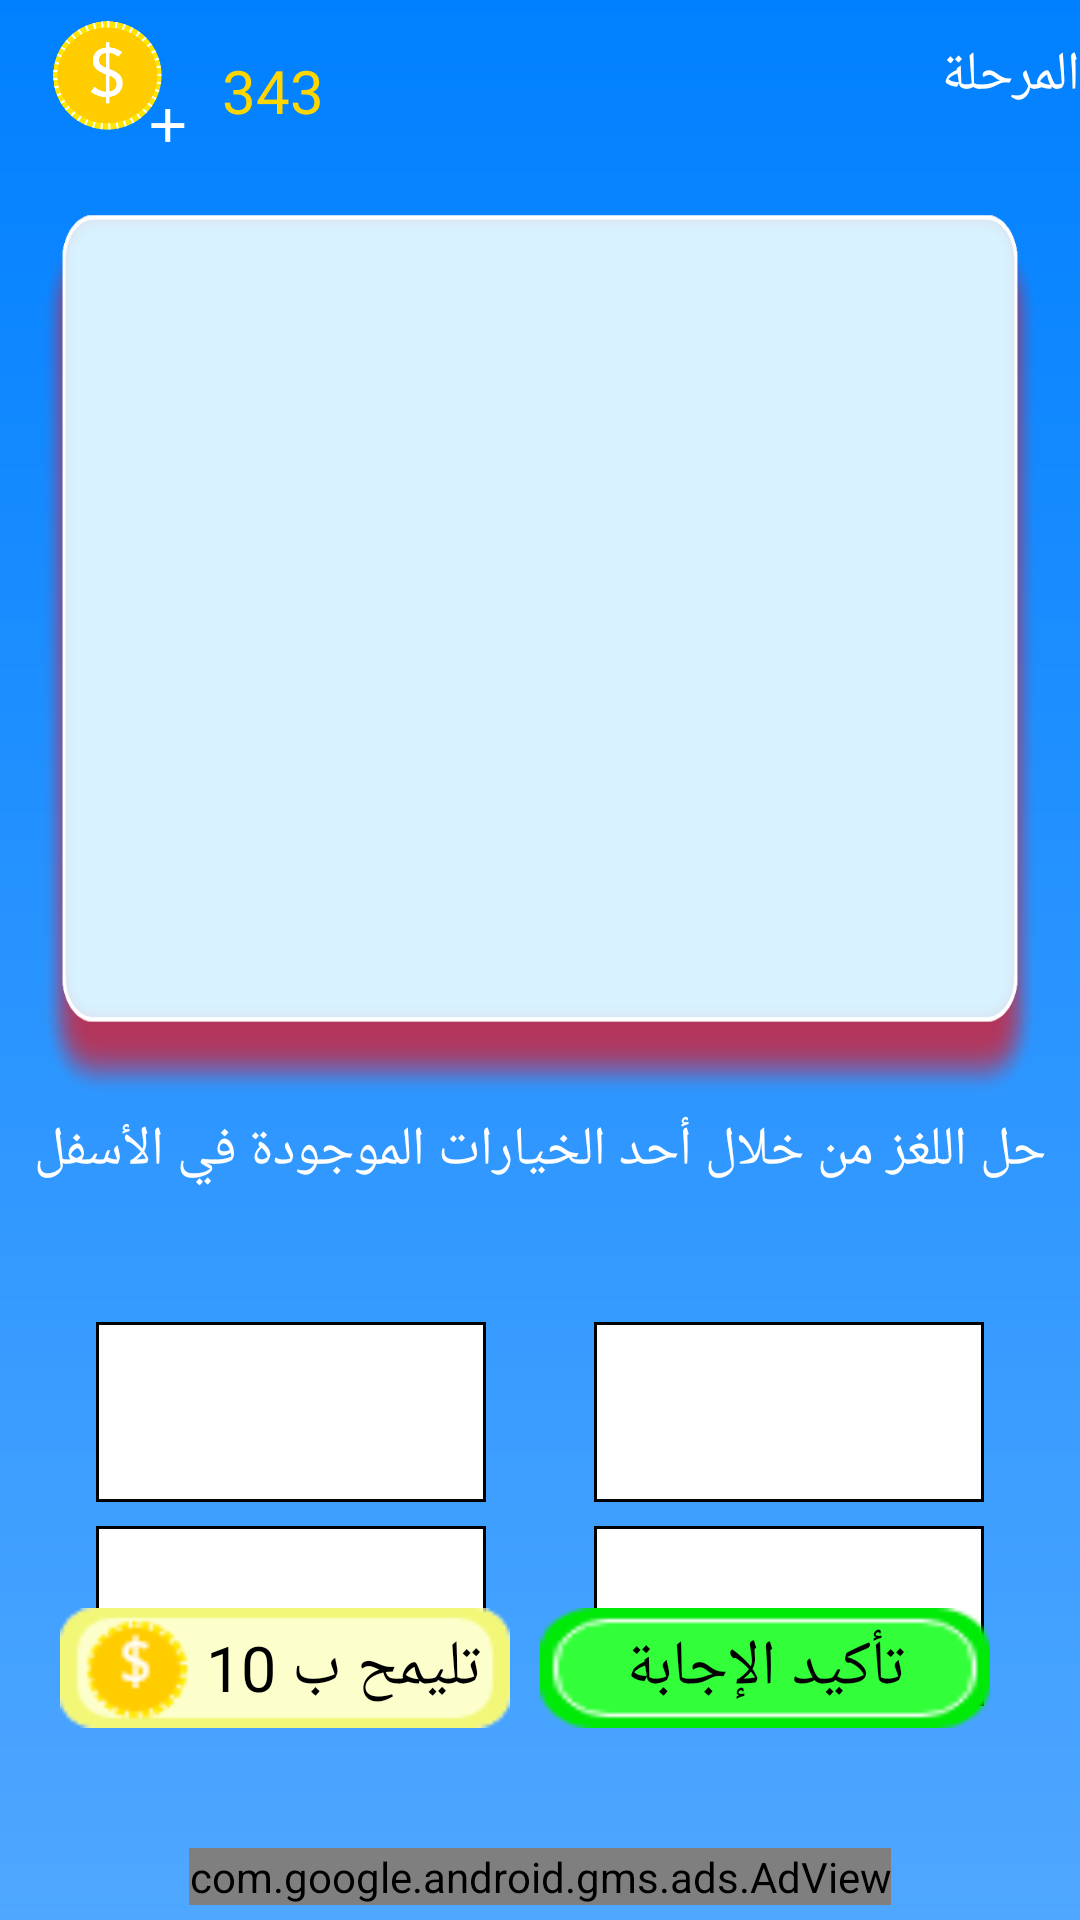

Named icons in this screenshot (1080w x 1920h) and their bounding boxes, region(x1, y1, x2, y2):
coin: region(53, 21, 185, 142)
